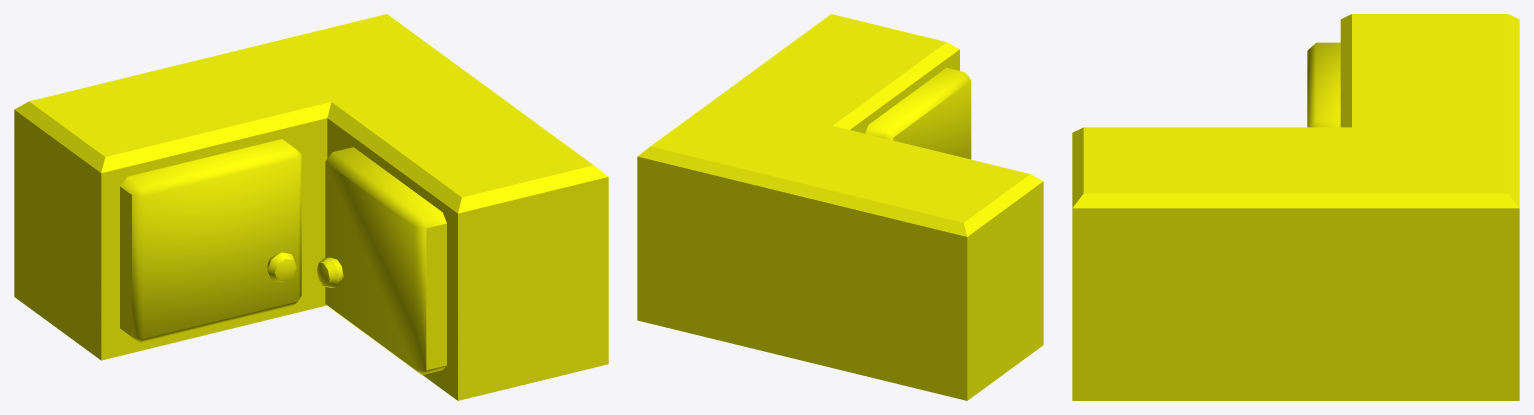
File: kaykit-kitchencabinet-corner-half.glb
3 renders of one model, left to right at view 1: azimuth 30°, elevation 25°; view 2: azimuth 150°, elevation 25°; view 3: azimuth 270°, elevation 25°, orthographic. The views are drawn at different scales.
Visible parts, largest first — view 1: kitchencabinet_corner_half; view 2: kitchencabinet_corner_half; view 3: kitchencabinet_corner_half.
Part boxes in pixels (bbox=[...]): kitchencabinet_corner_half: bbox=[14, 14, 608, 400]; kitchencabinet_corner_half: bbox=[637, 14, 1043, 400]; kitchencabinet_corner_half: bbox=[1072, 14, 1519, 400].
Bounding box in the file's own units: 2 × 1 × 2.
